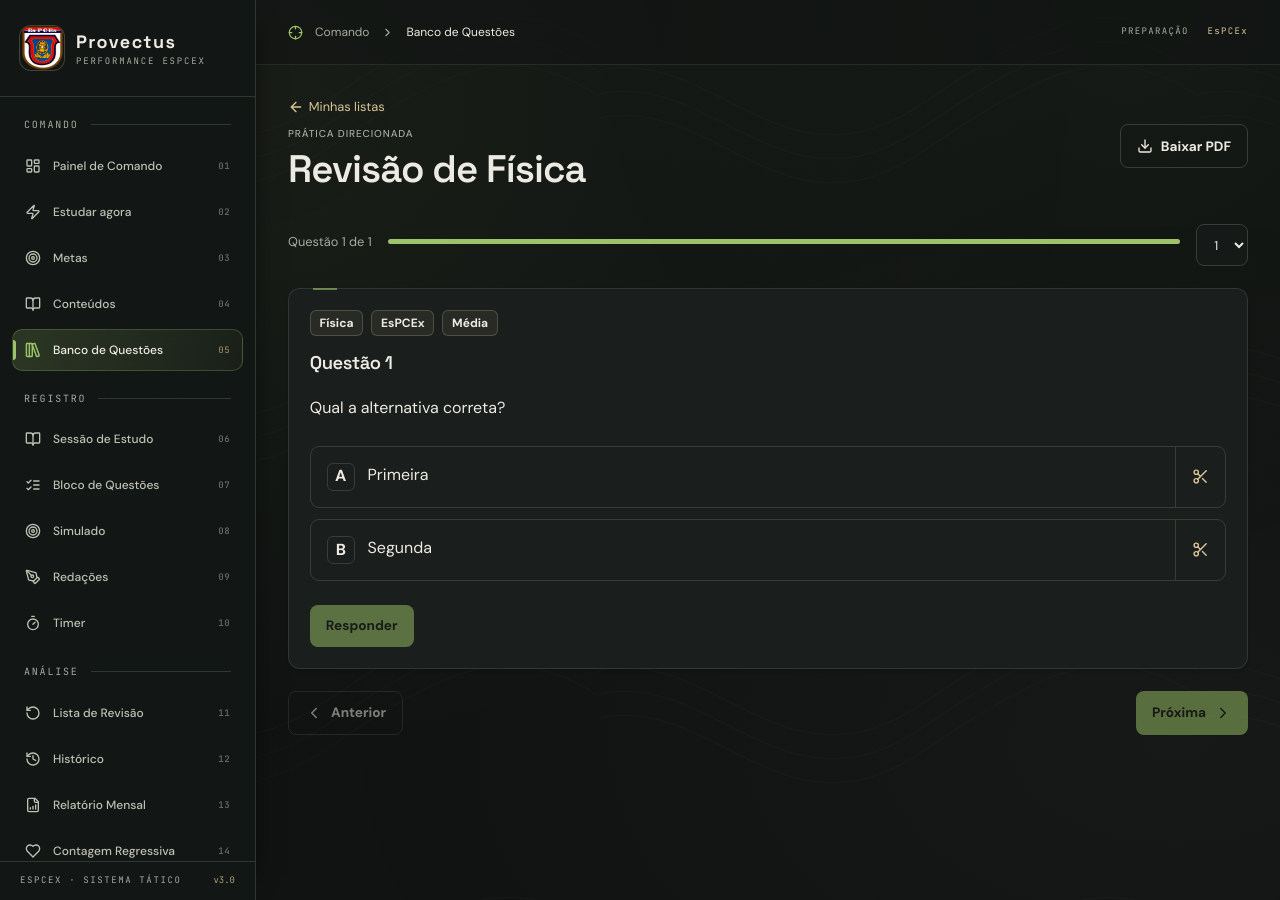
cuts and restores choices, then reveals the correct answer after submission
Expected: the text "Qual a alternativa correta?" is shown, [310,397,505,418]
Expected: the text "Gabarito: B" is not shown
Click the button named "Cortar alternativa A": (1200, 477) [1175,447,1225,507]
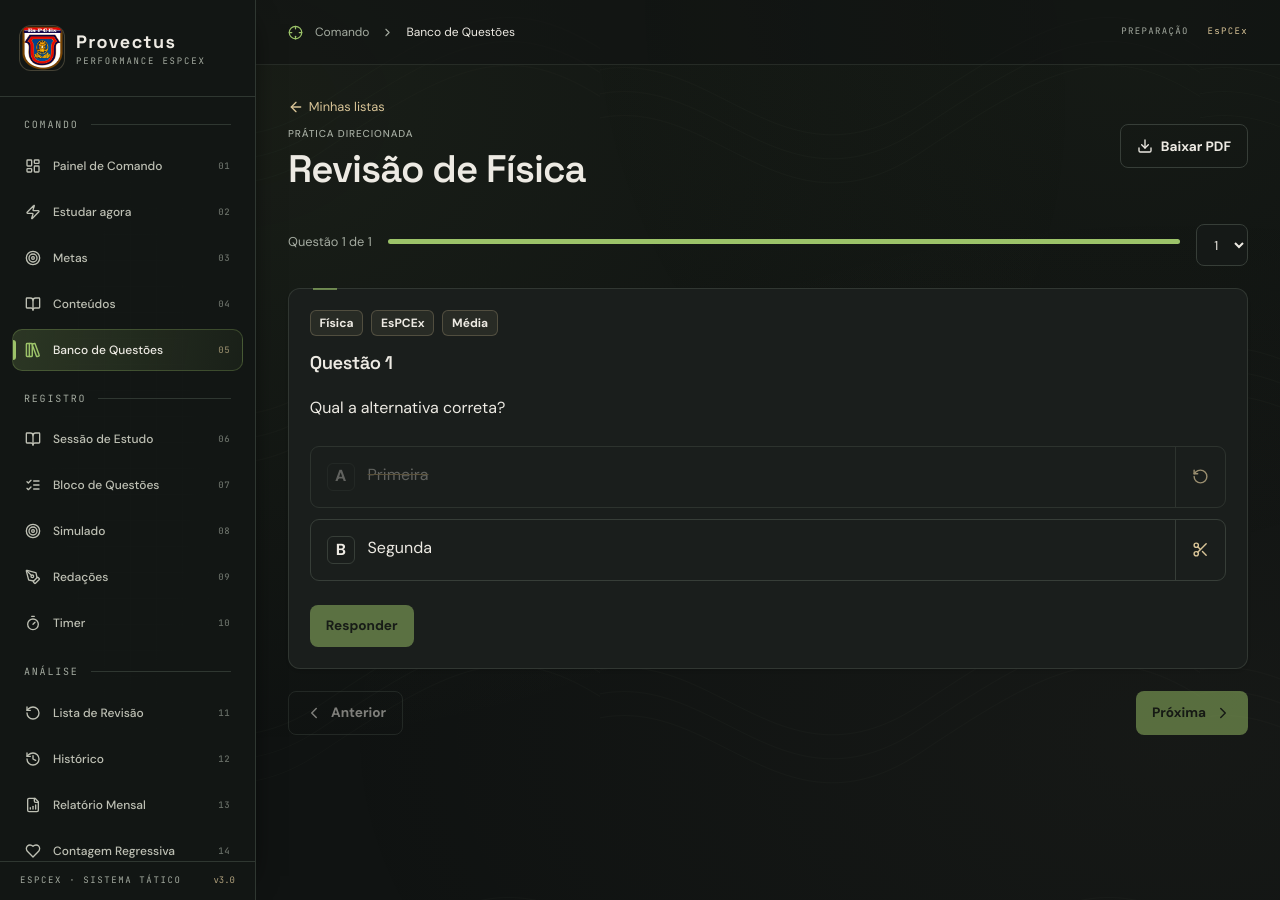
Click the button named "Restaurar alternativa A": (1200, 477) [1175,447,1225,507]
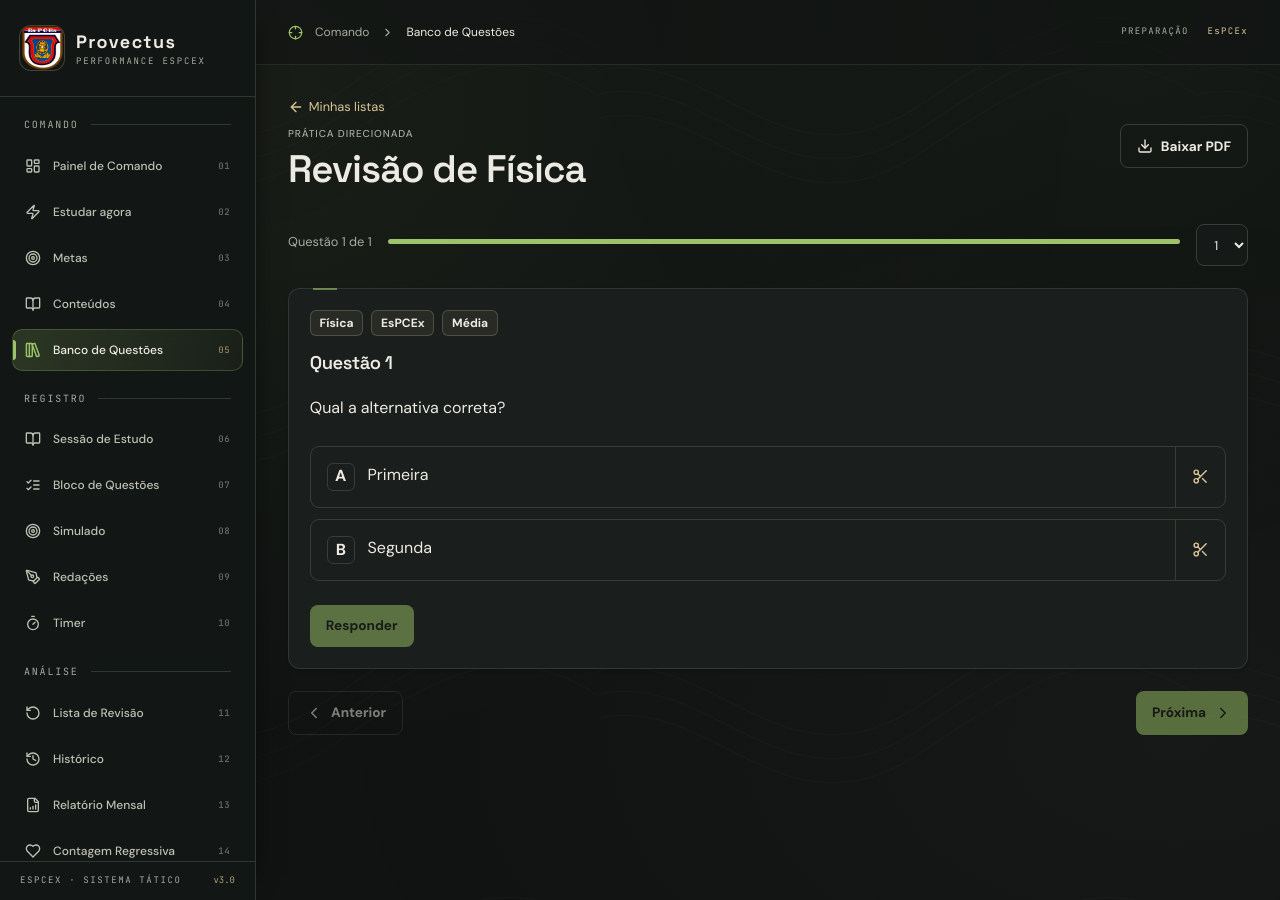
Expected: the button with aria-label "Selecionar alternativa A" is enabled
Click the button with aria-label "Selecionar alternativa A": (398, 474) [311,447,1175,507]
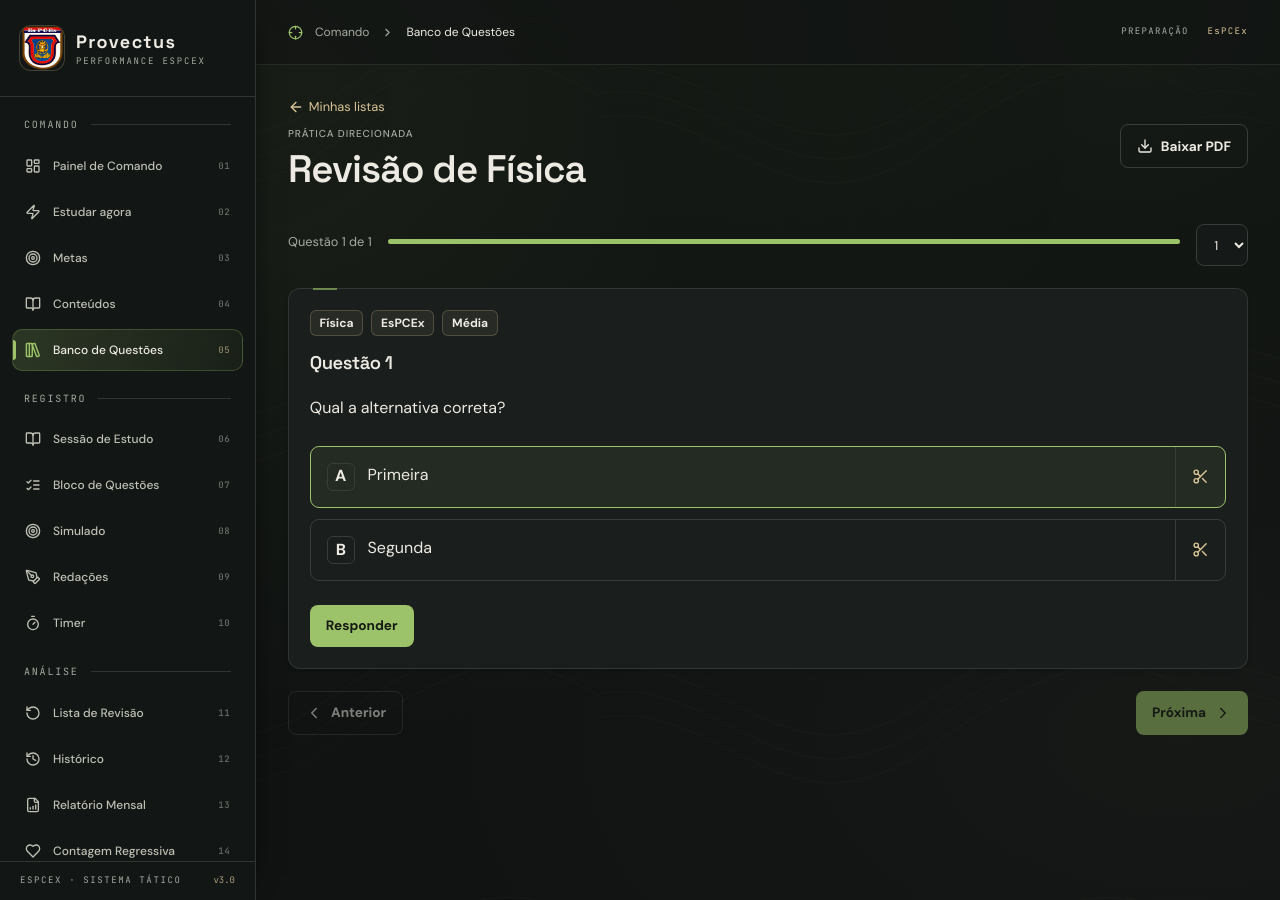
Click the button "Responder": (362, 626) [310,605,414,647]
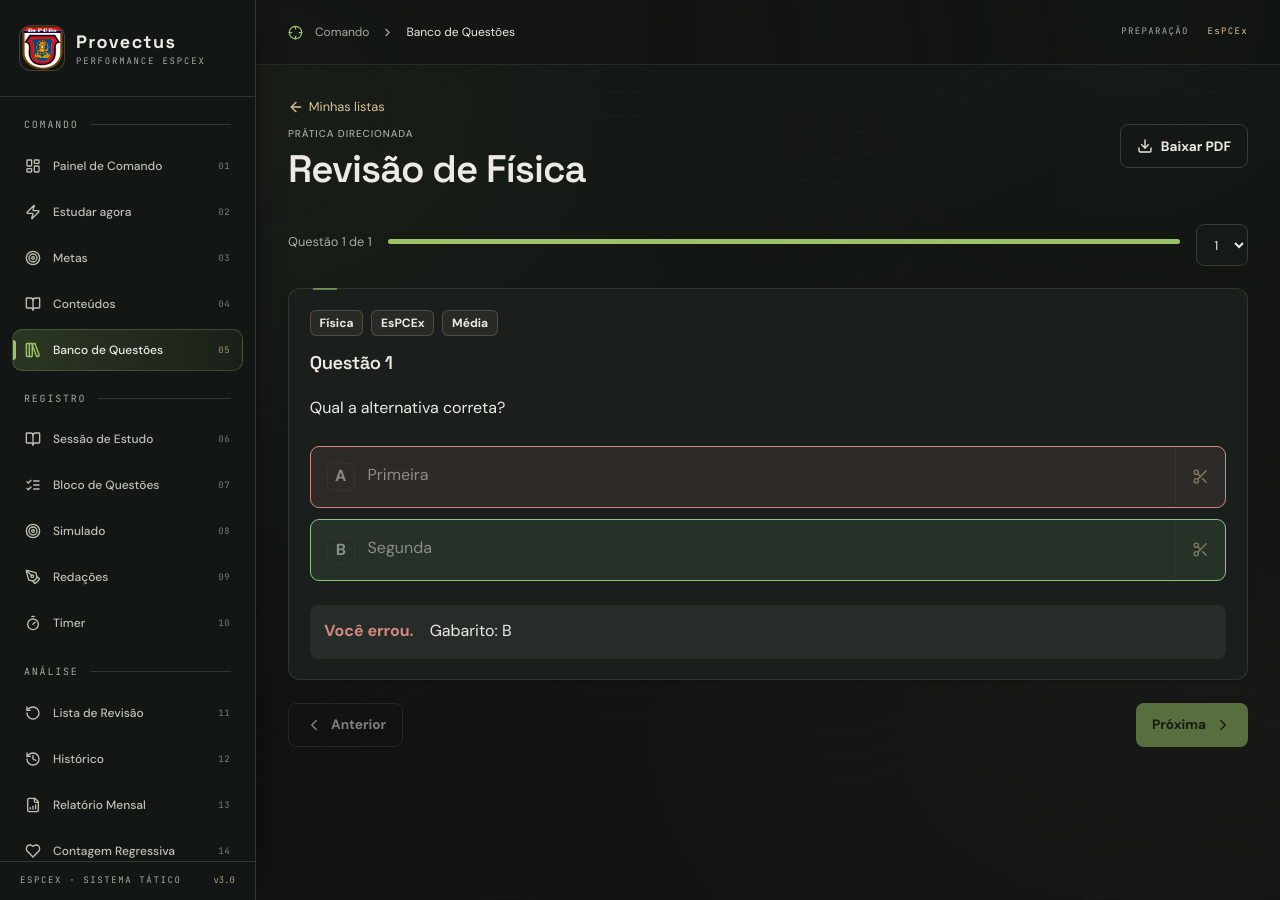
Expected: the text "Gabarito: B" is shown, [430,619,512,644]
